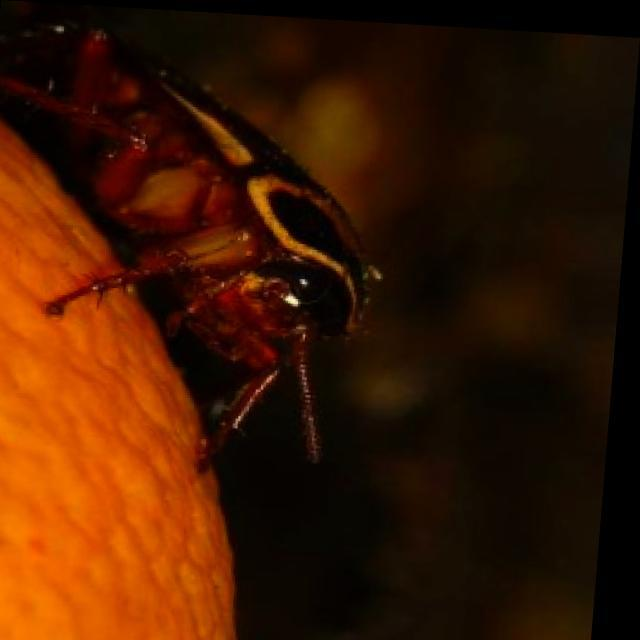cockroach: (0, 0, 389, 476)
